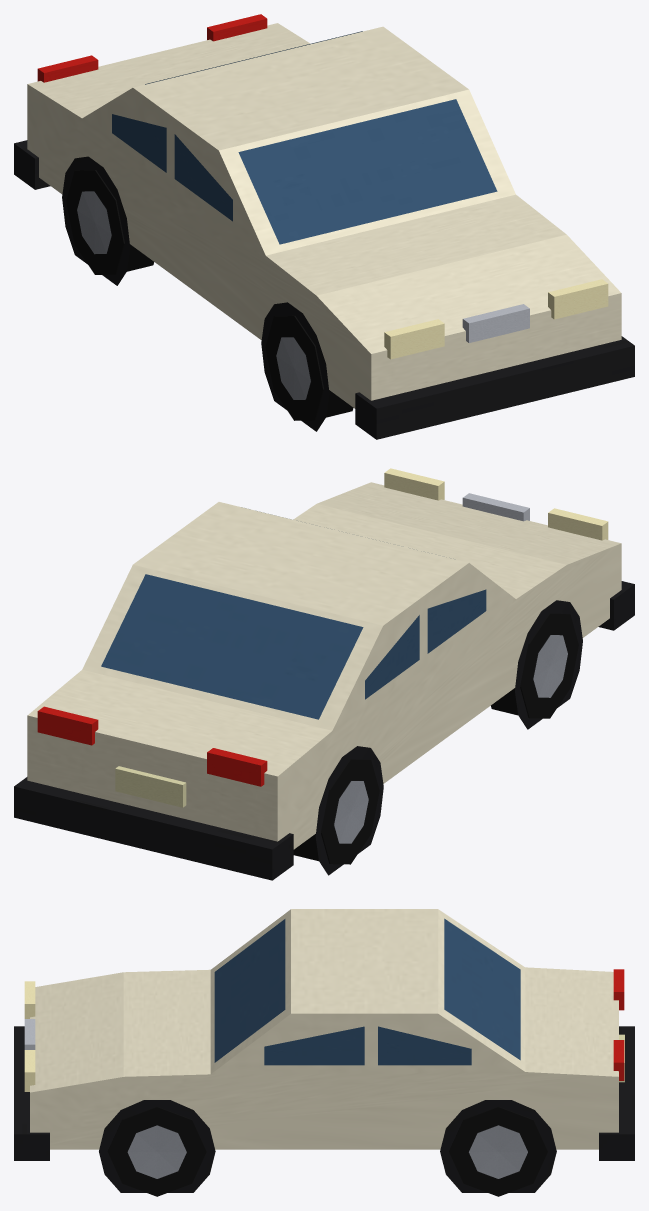
Rendered from saloon-cream-far.glb.
The picture shows the model from 3 angles, top to bottom: view 1: azimuth 30°, elevation 25°; view 2: azimuth 150°, elevation 25°; view 3: azimuth 270°, elevation 25°; orthographic projection. The views are drawn at different scales.
Parts seen in each view (by area): view 1: saloon-cream-far; view 2: saloon-cream-far; view 3: saloon-cream-far.
Boxes of the visible parts, x1=… form: saloon-cream-far: x1=14, y1=14, x2=634, y2=439; saloon-cream-far: x1=14, y1=468, x2=634, y2=880; saloon-cream-far: x1=14, y1=909, x2=634, y2=1196.
Bounding box in the file's own units: 1.91 × 1.5 × 4.64.
1 material, 1 textured.
